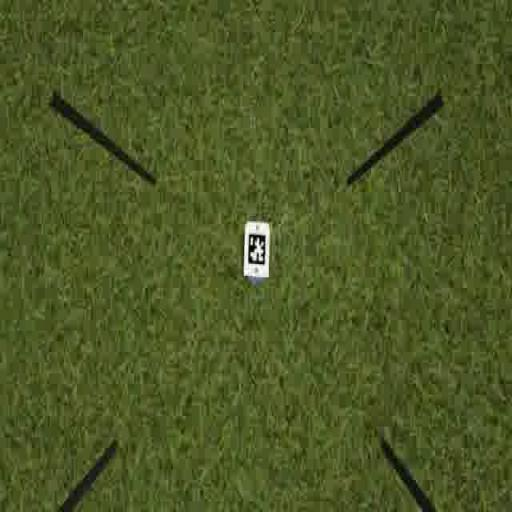UGV: (242, 219, 273, 285)
